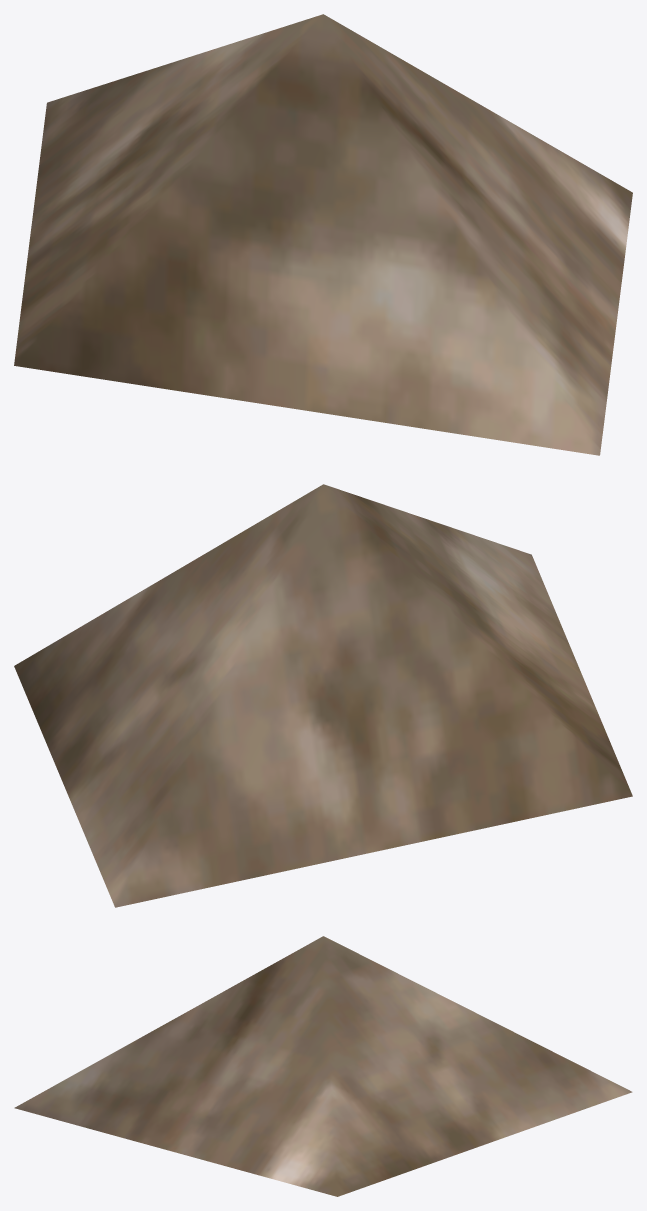
The model's file is OVERHILL_A_01_PLANE10.fbx.
3 views of the same model, one above another, from view 1: azimuth 30°, elevation 25°; view 2: azimuth 150°, elevation 25°; view 3: azimuth 270°, elevation 25° (orthographic). The views are drawn at different scales.
Parts seen in each view (by area): view 1: OVERHILL_A_01_PLANE10; view 2: OVERHILL_A_01_PLANE10; view 3: OVERHILL_A_01_PLANE10.
Boxes of the visible parts, <box> form: OVERHILL_A_01_PLANE10: <box>14,14,632,455</box>; OVERHILL_A_01_PLANE10: <box>14,484,632,907</box>; OVERHILL_A_01_PLANE10: <box>14,936,632,1196</box>.
Size of the model in its own units: 1177 by 465 by 1589.
Materials: 1 (1 with a texture image).
